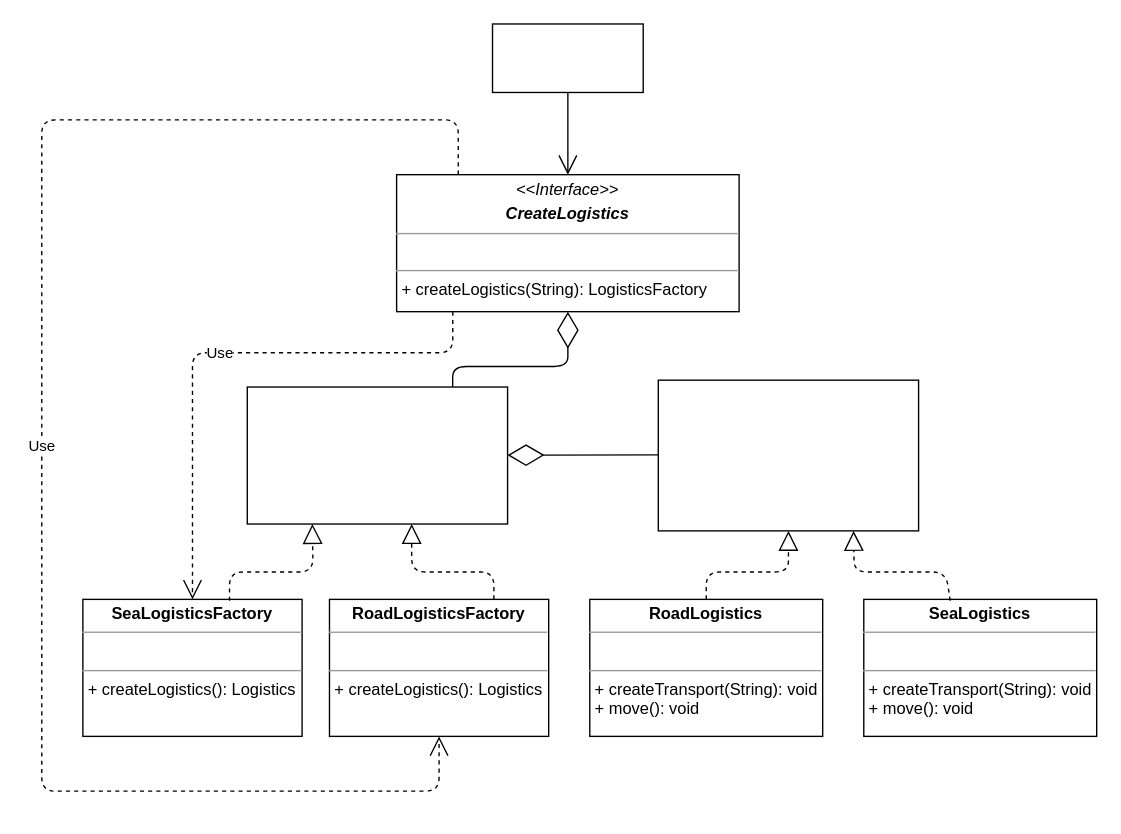
This 1121x834 diagram has some shape labels left out. The shapes that lost their labels are listed below. From the top down, each one's box as (x1, y1, x2, y2) in pixels, then its label:
(491, 23, 643, 92): Client
(246, 386, 508, 524): <<Interface>> LogisticsFactory + createLogistics(): Logistics
(657, 379, 919, 531): <<Interface>> Logistics + createTransport(String): void + move(): void
